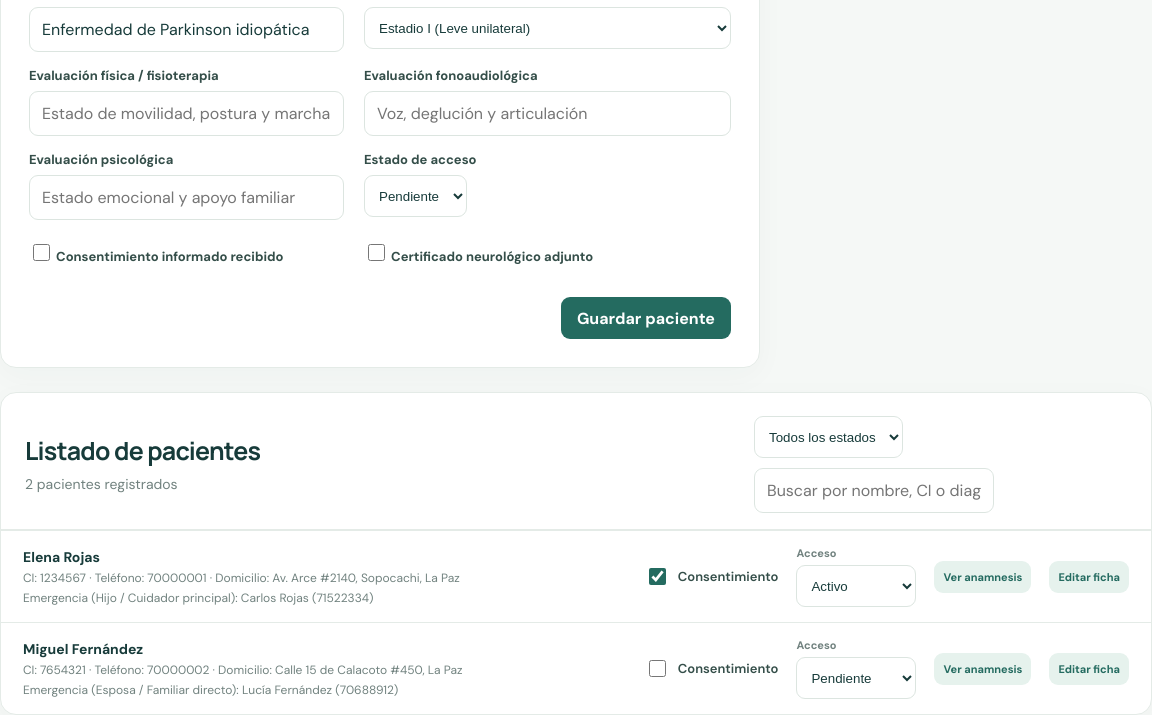
Test: SCRUM-138: PatientsView — consentimiento y estados de acceso › muestra la anamnesis solo si hay consentimiento y acceso Activo
(page scrolled)
Click the button "Ver anamnesis" in the row of "Elena Rojas" at (983, 577), box left=934, top=561, right=1032, bottom=593
(page scrolled)
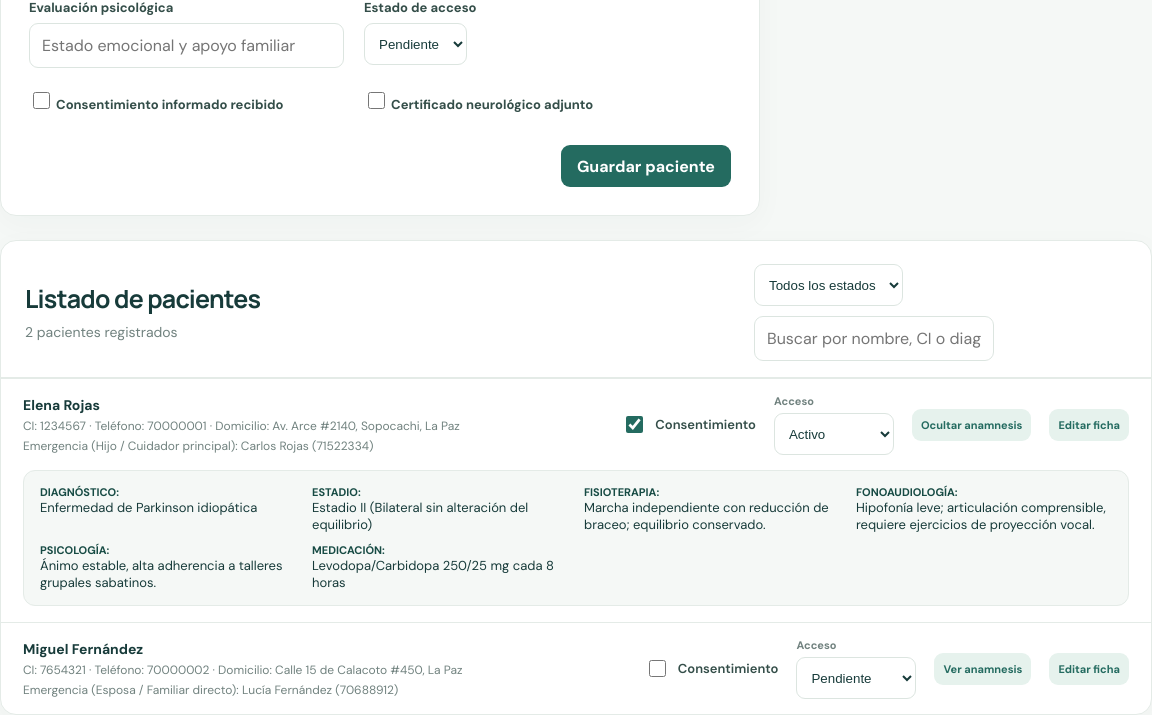
Check: the element with class "anamnesis-grid" is shown, box left=40, top=485, right=1112, bottom=591
Click the button "Ver anamnesis" at (983, 669), box left=934, top=653, right=1032, bottom=685
(page scrolled)
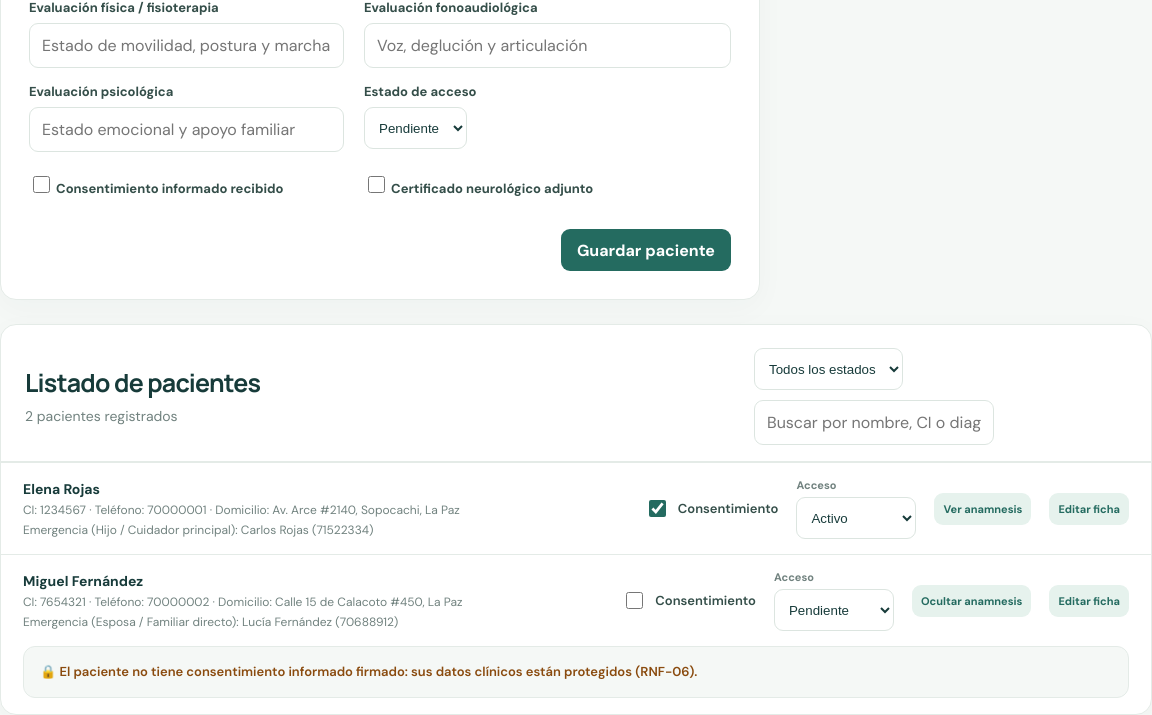
Check: the message is shown, box left=40, top=663, right=697, bottom=680
